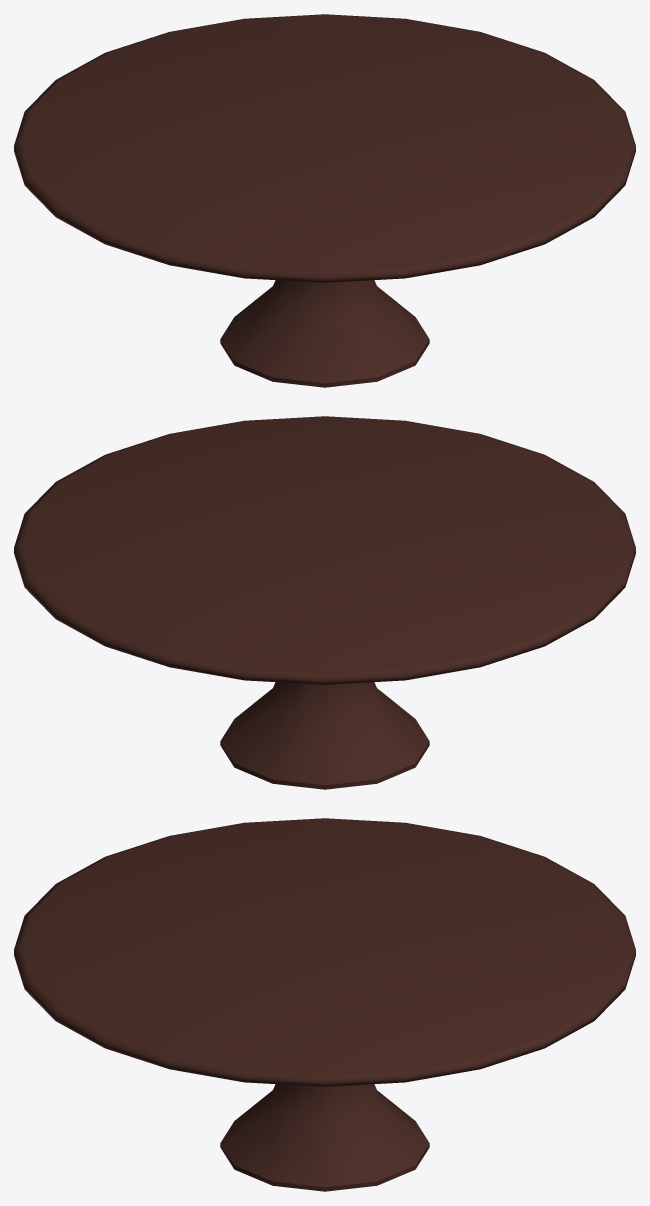
The model's file is trash.glb.
3 renders of one model, top to bottom at view 1: azimuth 30°, elevation 25°; view 2: azimuth 150°, elevation 25°; view 3: azimuth 270°, elevation 25°, orthographic.
Parts seen in each view (by area): view 1: Table_large_circular; view 2: Table_large_circular; view 3: Table_large_circular.
Part boxes in pixels (x1=…): Table_large_circular: x1=14, y1=14, x2=635, y2=387; Table_large_circular: x1=14, y1=416, x2=635, y2=789; Table_large_circular: x1=14, y1=818, x2=635, y2=1191.
Bounding box in the file's own units: 1.27 × 0.4518 × 1.27.
1 material, 1 textured.
